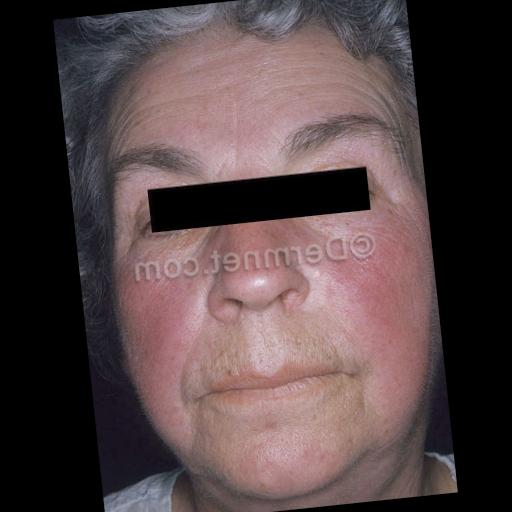Skin_Lesion: (136, 279, 190, 329), (362, 238, 403, 272)
